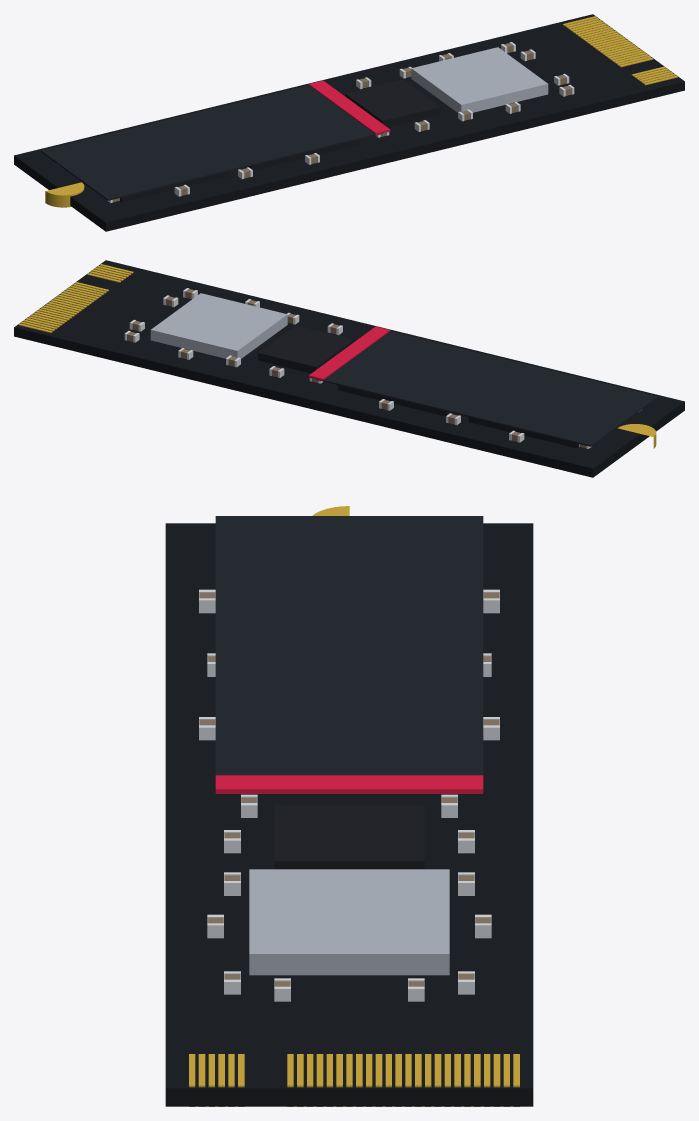
File: m2ssd_painter.glb
3 renders of one model, top to bottom at view 1: azimuth 30°, elevation 25°; view 2: azimuth 150°, elevation 25°; view 3: azimuth 270°, elevation 25°, orthographic. The views are drawn at different scales.
Parts seen in each view (by area): view 1: Samsung_980_PRO_M2_NVMe_SSD; view 2: Samsung_980_PRO_M2_NVMe_SSD; view 3: Samsung_980_PRO_M2_NVMe_SSD.
Part boxes in pixels (bbox=[...]): Samsung_980_PRO_M2_NVMe_SSD: bbox=[14, 14, 684, 231]; Samsung_980_PRO_M2_NVMe_SSD: bbox=[14, 260, 684, 477]; Samsung_980_PRO_M2_NVMe_SSD: bbox=[165, 506, 533, 1106].
Size of the model in its own units: 0.82 by 0.0295 by 0.22.
